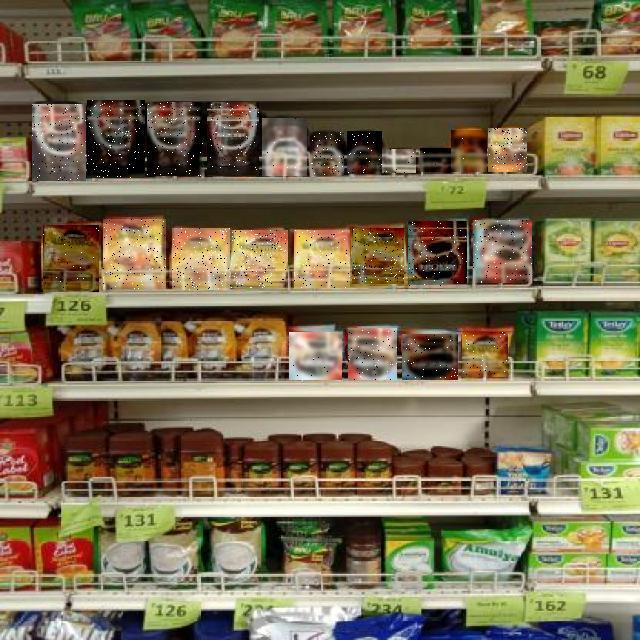Coffee: (87, 100, 145, 178), (103, 219, 166, 289), (32, 104, 86, 181), (148, 102, 204, 176), (408, 222, 467, 288), (207, 102, 259, 176), (43, 225, 99, 292), (473, 220, 532, 283), (172, 228, 230, 290), (229, 230, 288, 288), (295, 230, 351, 288), (353, 228, 405, 284), (262, 118, 307, 176), (402, 334, 458, 380), (348, 328, 397, 380), (289, 332, 342, 380), (463, 332, 509, 377), (488, 128, 527, 172), (451, 130, 487, 172), (347, 131, 382, 174), (311, 132, 345, 176), (382, 149, 416, 173), (420, 148, 451, 172)
